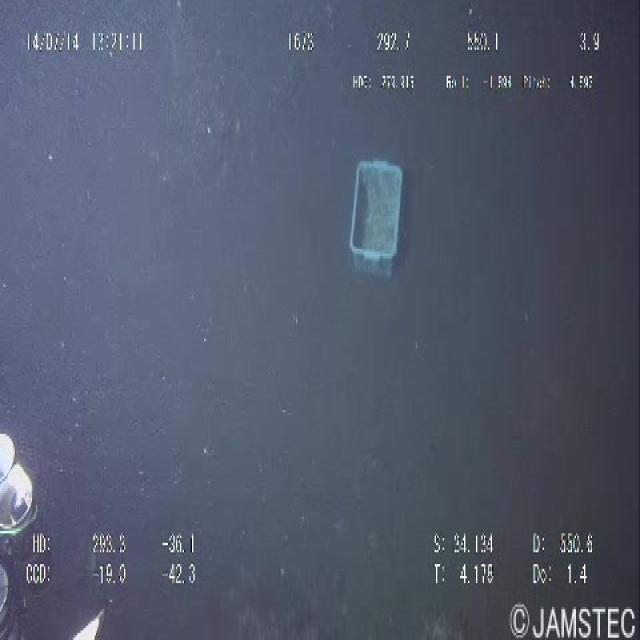plastic: (338, 130, 426, 284)
